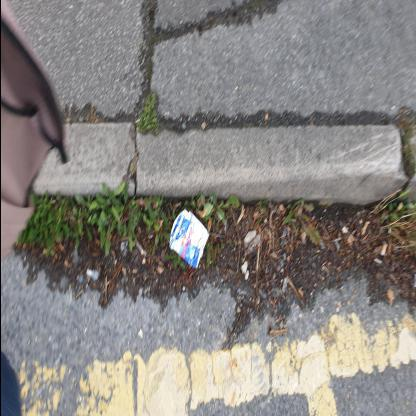metal: (169, 211, 209, 271)
